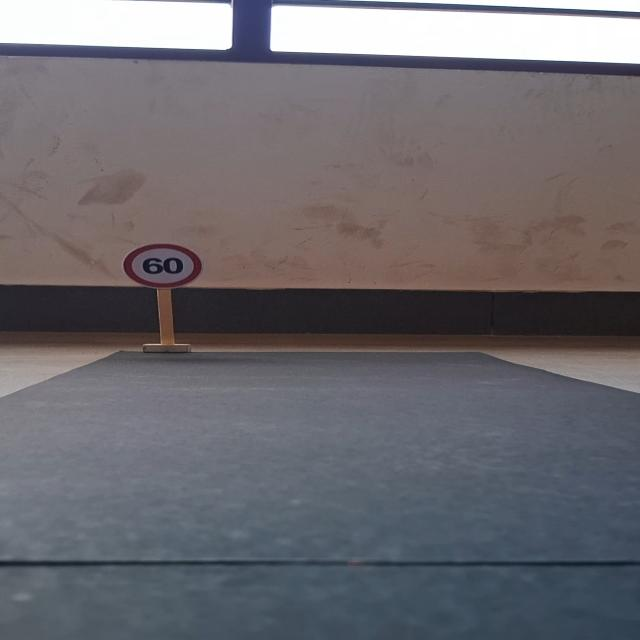Speed60: (118, 242, 209, 288)
